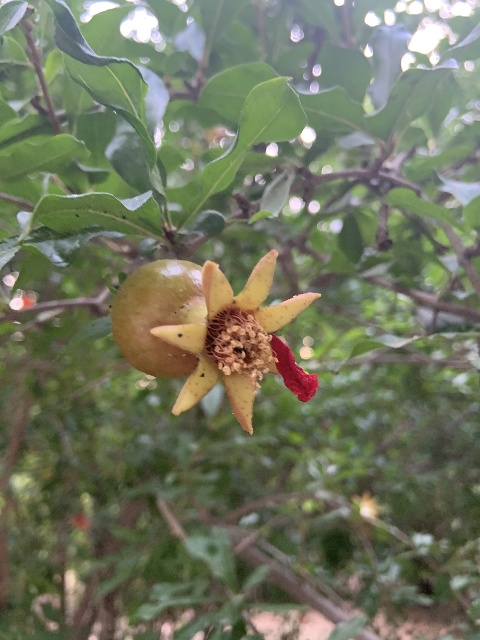early-fruit: (111, 246, 322, 436)
